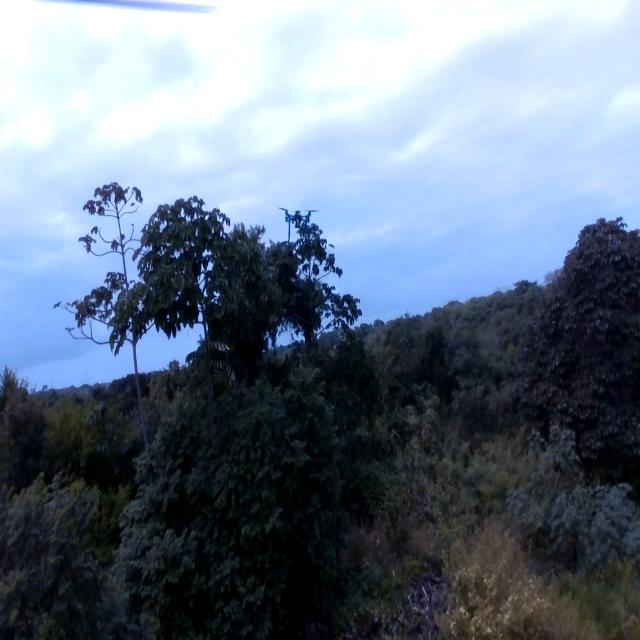-uav-: (272, 196, 322, 248)
